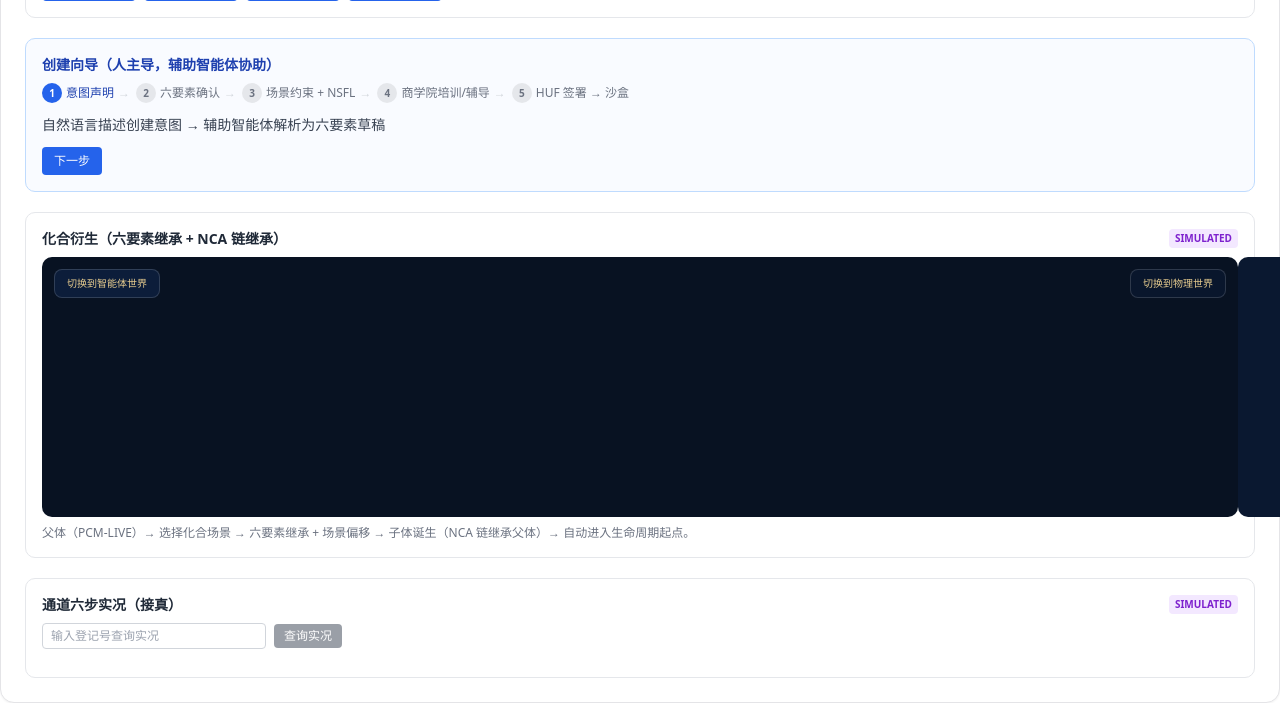
Test: 批 4 块一 · 通道六步实况接真（/studio） › 后端不可用 → fail-closed 提示（不猜测数据）
This screenshot has width=1280, height=703.
(page scrolled)
Type "TEST-REG-2" into the field with test id "channel-gate-input" at (154, 636), box [42,622,266,648]
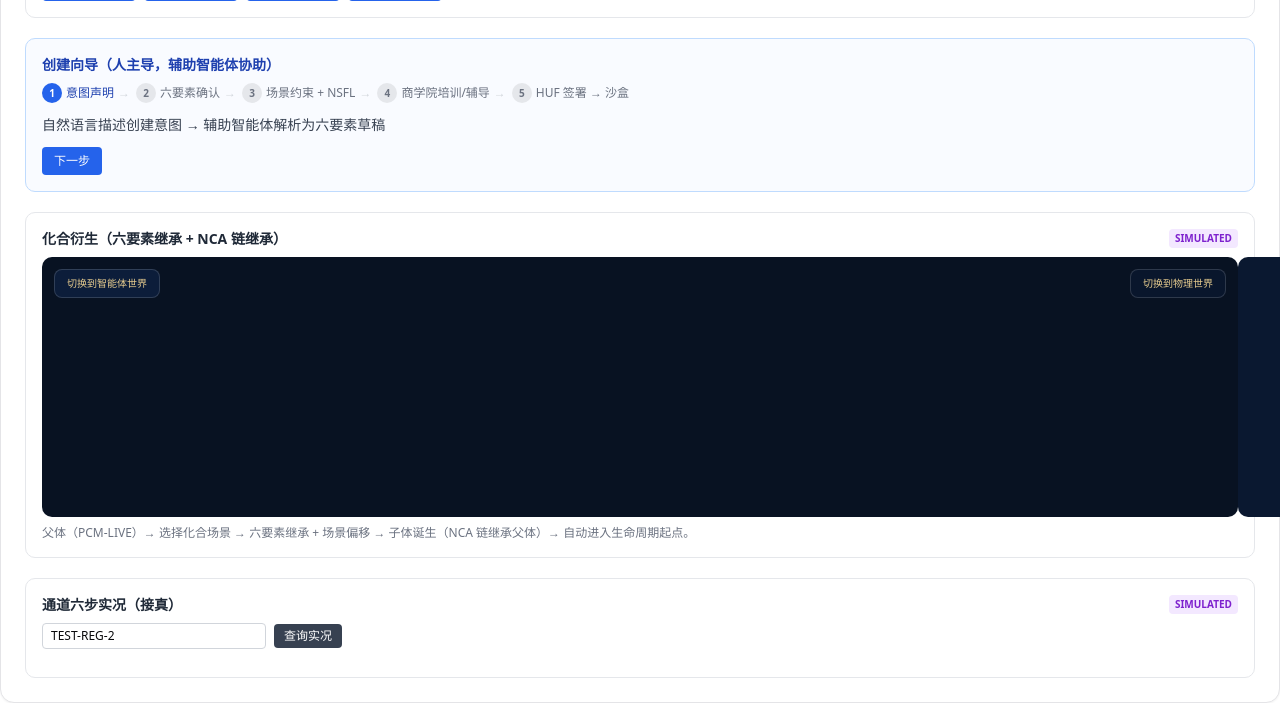
Click the button with test id "channel-gate-query" at (308, 636), box [274,624,342,648]
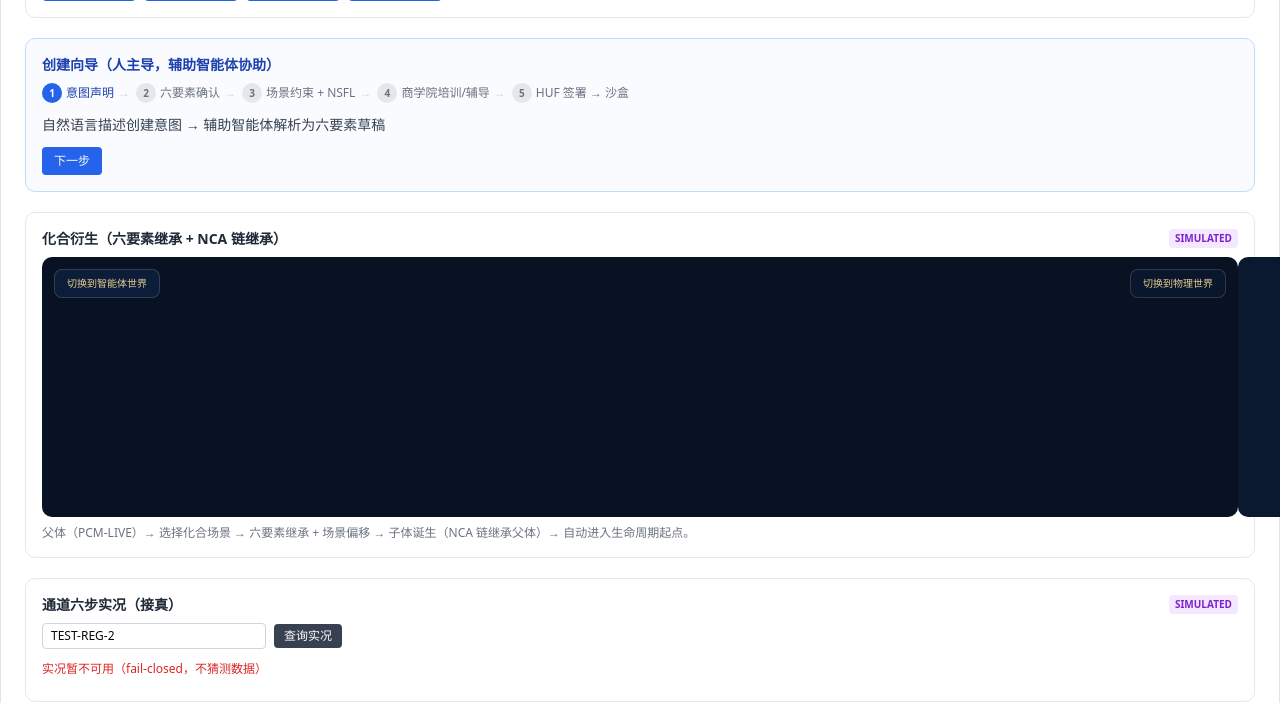
Expected: the text with test id "channel-gate-error" shows "fail-closed", [42,660,267,676]
